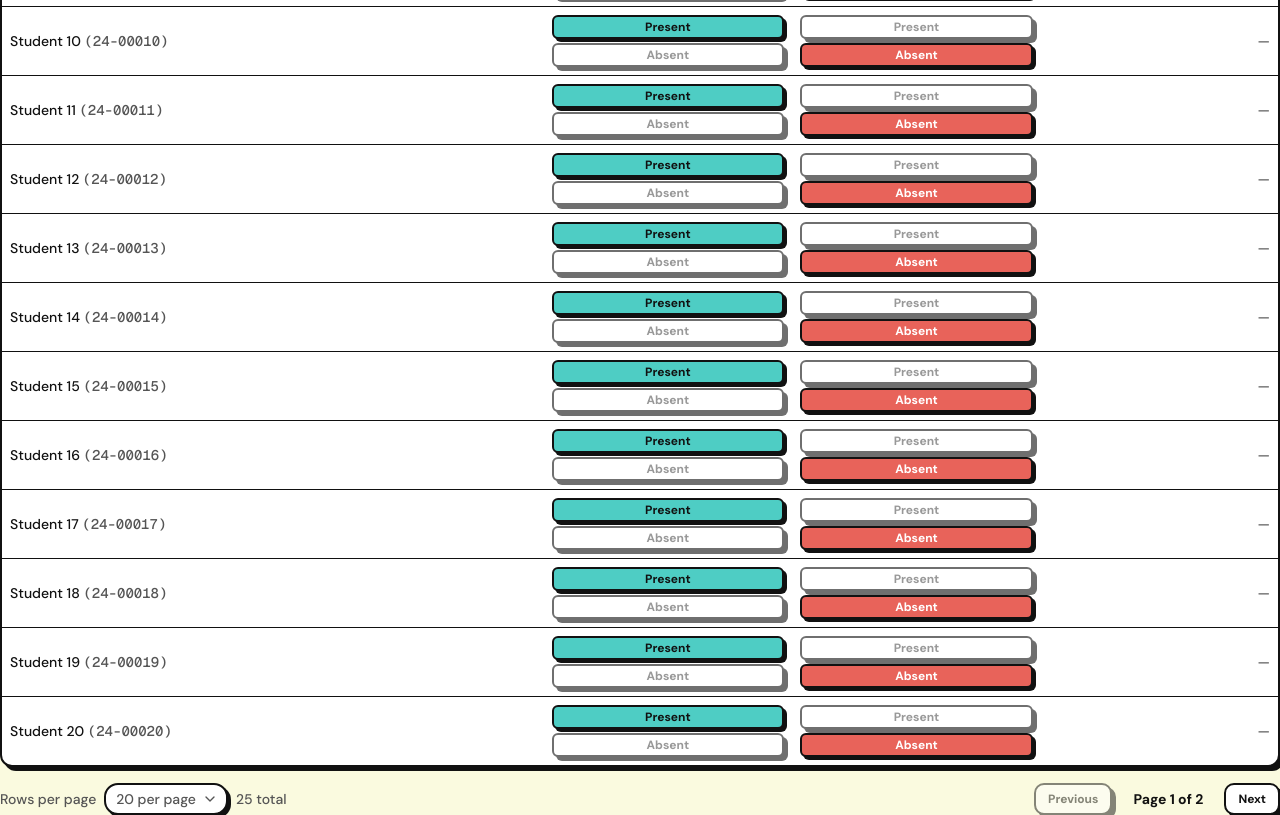
Test case: AttendanceGrid pagination (Issue #221) › changes rows per page with the shared 10/15/20 control
(page scrolled)
Click the dropdown named "Rows per page" at (166, 799), box [104,783,228,814]
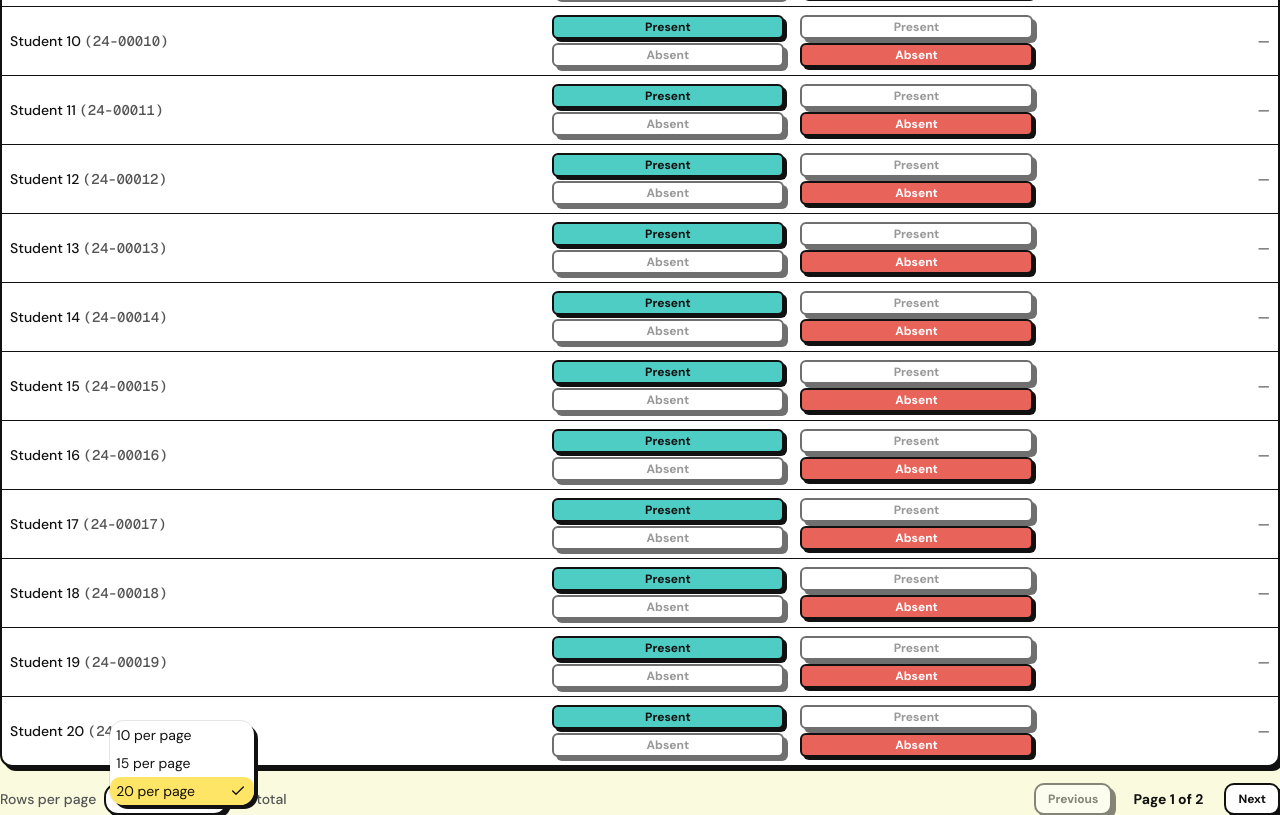
Click the option "10 per page" at (154, 735), box [116,726,192,744]
(page scrolled)
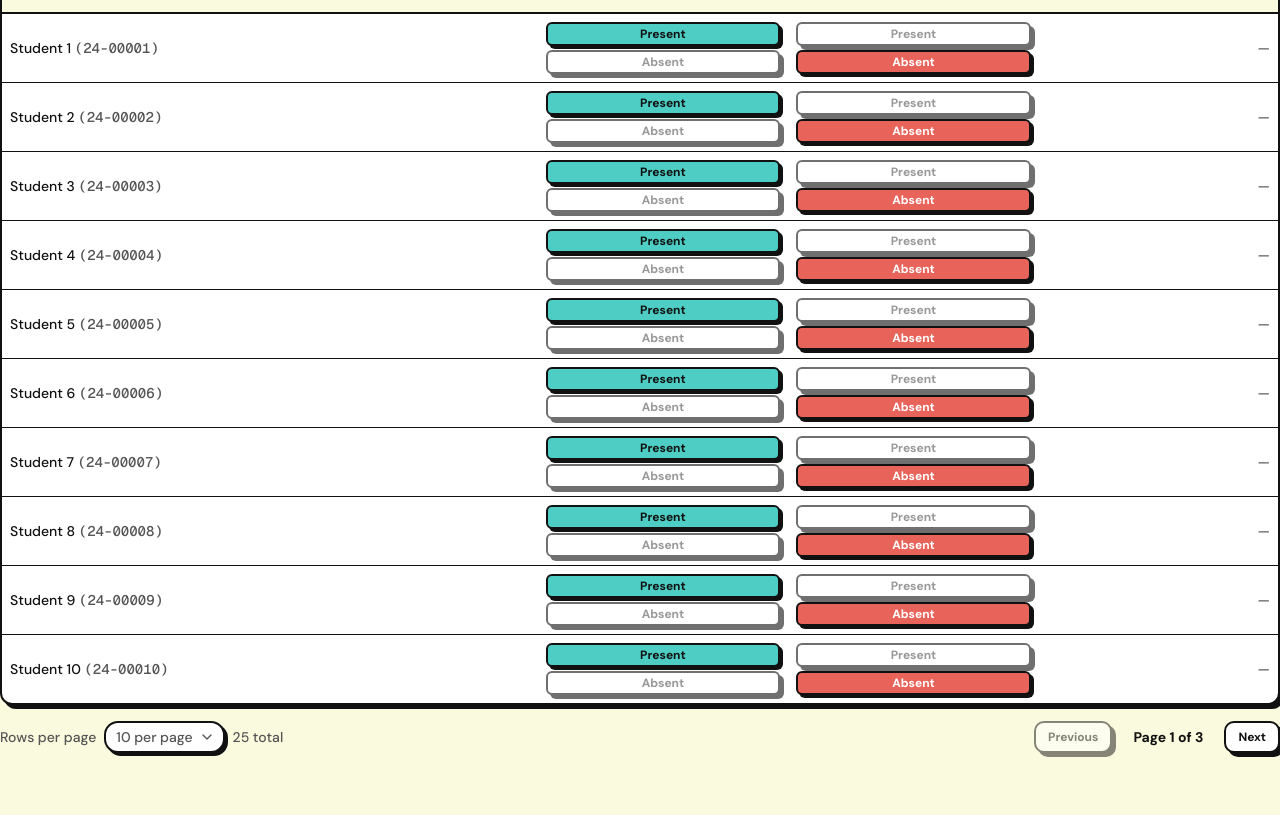
Expected: the text "Student 10" is shown, [10,660,81,678]
Expected: the text "Page 1 of 3" is shown, [1133,728,1203,746]
Expected: the text "Student 11" is gone
